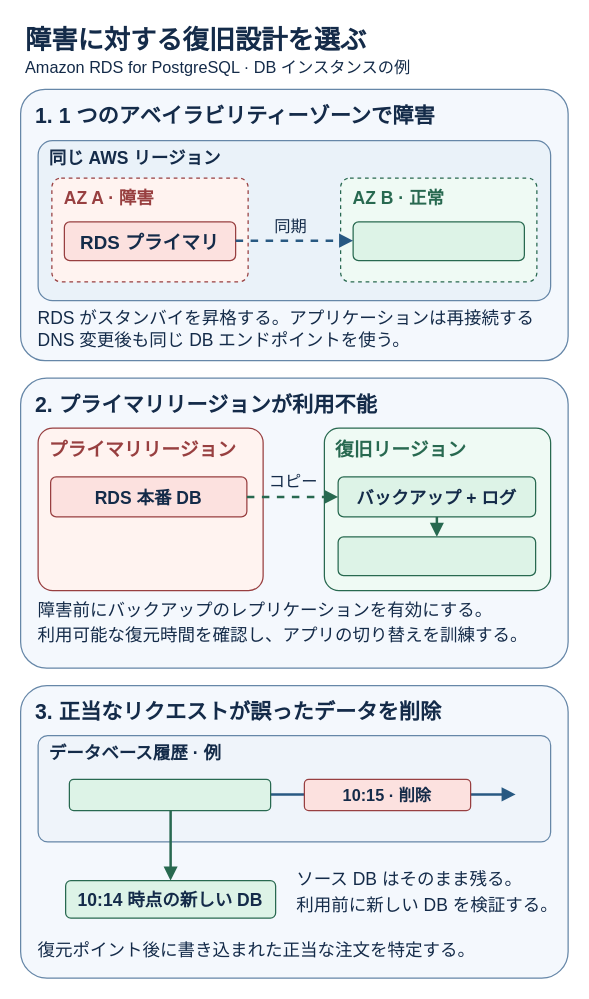
The diagram is 589 pixels wide and 999 high, and some of its shapes have lost their labels. The box of each missing label's shape, as (x1, y1, x2, y2) in pixels:
10:14 · 復元ポイント: (68, 778, 271, 811)
RDS スタンバイ: (352, 221, 524, 261)
新しい DB を復元: (337, 536, 536, 576)
